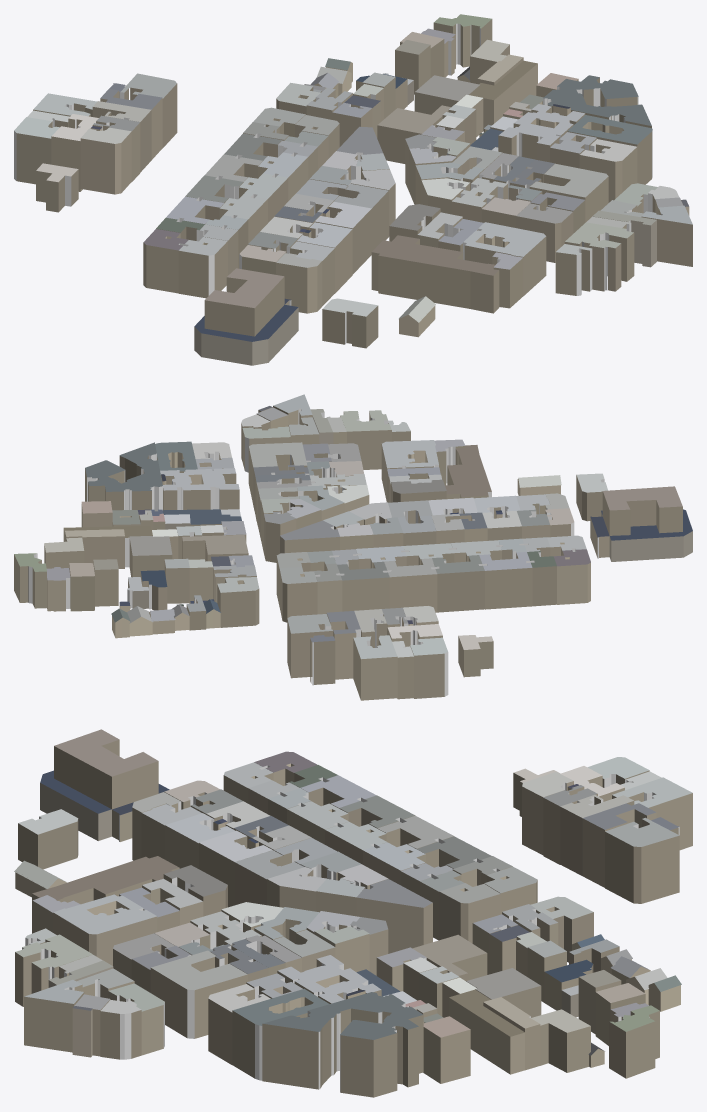
3 views of the same model, one above another, from view 1: azimuth 30°, elevation 25°; view 2: azimuth 150°, elevation 25°; view 3: azimuth 270°, elevation 25° (orthographic). The views are drawn at different scales.
Visible parts, largest first — view 1: tuile; view 2: tuile; view 3: tuile.
Part boxes in pixels (x1,y1,x2,y2): tuile: [14, 14, 692, 365]; tuile: [14, 394, 692, 700]; tuile: [14, 729, 692, 1097].
Size of the model in its own units: 289 by 27.41 by 267.
